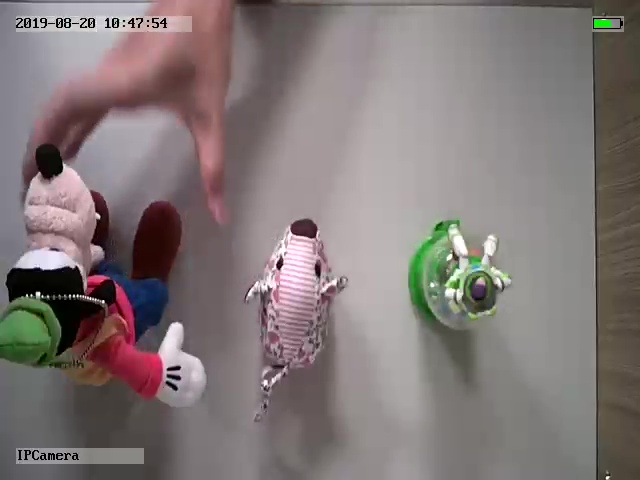buzz: (403, 217, 515, 334)
goofy: (2, 143, 209, 413)
pig: (242, 216, 349, 425)
